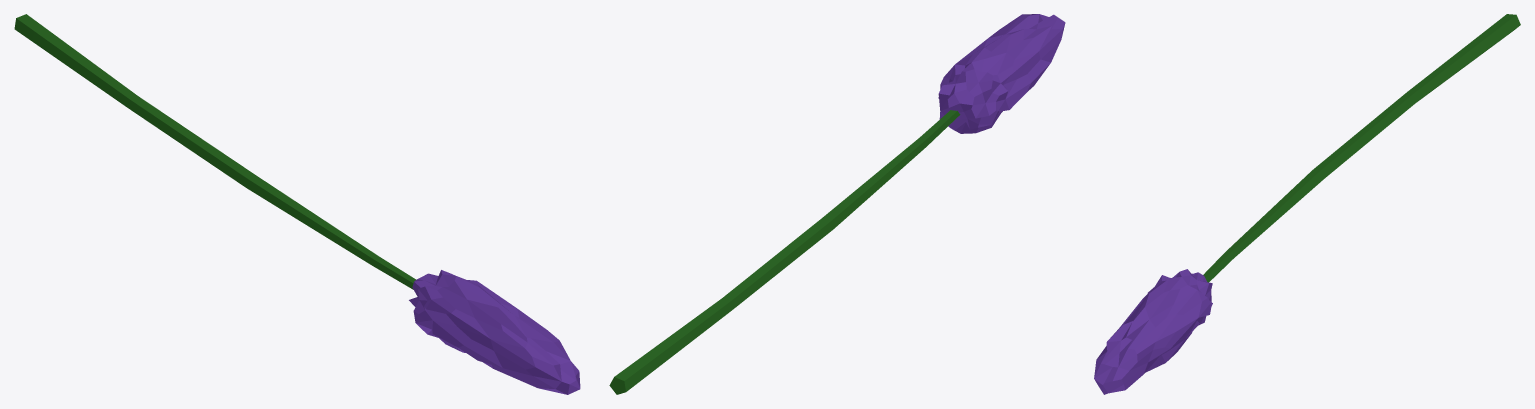
Rendered from Lavendel_tall.dae.
3 renders of one model, left to right at view 1: azimuth 30°, elevation 25°; view 2: azimuth 150°, elevation 25°; view 3: azimuth 330°, elevation 25°, orthographic. The views are drawn at different scales.
Visible parts, largest first — view 1: polySurface1, polySurface2; view 2: polySurface1, polySurface2; view 3: polySurface1, polySurface2.
Part boxes in pixels (box(x1,y1,x2,y2)): polySurface1: box(409, 270, 580, 394); polySurface2: box(14, 14, 415, 289); polySurface1: box(938, 14, 1065, 133); polySurface2: box(609, 110, 960, 394); polySurface1: box(1094, 269, 1212, 394); polySurface2: box(1203, 14, 1520, 282).
Bounding box in the file's own units: 10.25 × 7.68 × 106.
